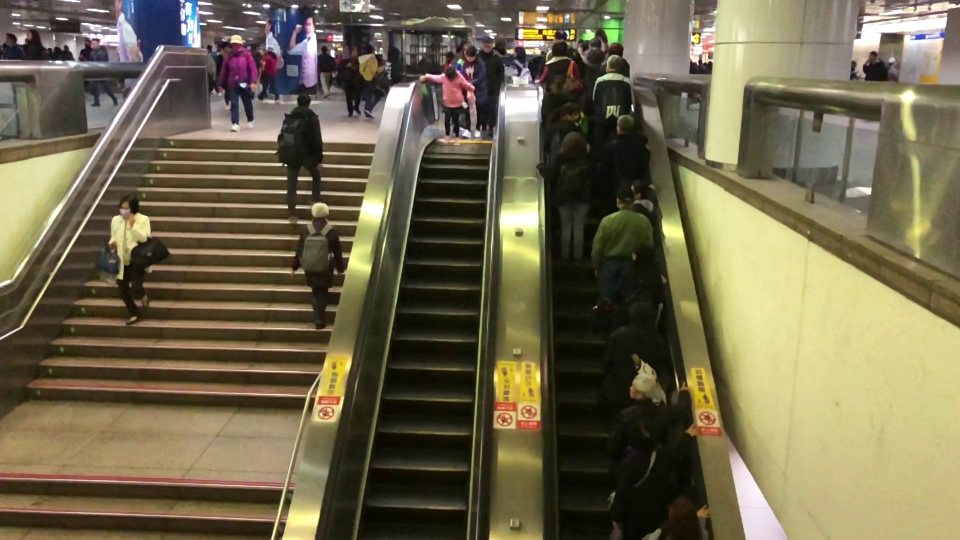person_head: (666, 494, 698, 525), (627, 418, 657, 450), (626, 372, 656, 401), (627, 300, 655, 329), (559, 131, 587, 158), (117, 193, 140, 220), (631, 242, 655, 266), (559, 101, 582, 124), (615, 186, 635, 211), (616, 113, 636, 136), (549, 75, 569, 95), (630, 179, 649, 200), (311, 201, 329, 223), (605, 54, 624, 73), (604, 41, 624, 58), (551, 39, 569, 57), (229, 34, 244, 51), (296, 92, 311, 108), (464, 45, 478, 61), (481, 35, 493, 53), (553, 29, 568, 43), (25, 28, 39, 42), (443, 67, 458, 80), (494, 43, 507, 58), (577, 40, 590, 55), (5, 32, 18, 46), (513, 45, 527, 58), (359, 43, 373, 55), (587, 36, 601, 48), (265, 43, 276, 56), (348, 44, 359, 57), (445, 50, 456, 63), (867, 49, 878, 62), (90, 37, 101, 49), (887, 55, 897, 67), (84, 38, 92, 48), (850, 59, 857, 69), (321, 45, 328, 53)
person_vbox: (607, 417, 700, 533), (602, 373, 695, 461), (589, 185, 654, 309), (535, 131, 595, 265), (96, 192, 155, 328), (287, 200, 345, 330), (598, 303, 667, 412), (273, 92, 324, 224), (592, 111, 651, 207), (607, 243, 667, 332), (608, 494, 713, 540), (418, 66, 475, 146), (219, 33, 260, 132), (592, 54, 635, 135), (453, 45, 488, 138), (477, 35, 505, 137), (542, 100, 592, 157), (535, 41, 585, 96), (357, 42, 390, 119), (540, 75, 588, 123), (86, 37, 118, 107), (572, 37, 608, 99), (337, 44, 364, 118), (545, 30, 585, 78), (629, 177, 659, 233), (258, 43, 280, 104), (596, 42, 630, 78), (317, 44, 337, 100), (493, 44, 519, 81), (511, 46, 535, 82), (863, 49, 888, 83), (24, 27, 48, 61), (2, 31, 26, 60), (885, 55, 900, 83), (79, 39, 95, 62), (848, 58, 863, 82)
